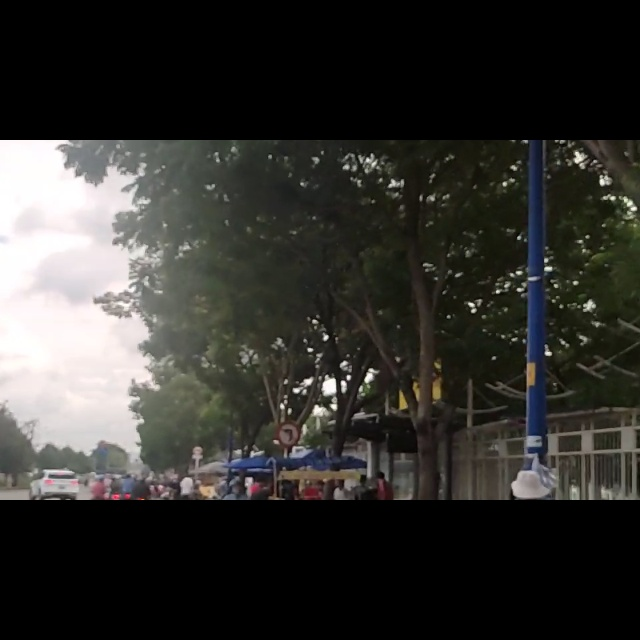Cấm rẽ trái: (275, 421, 299, 446)
